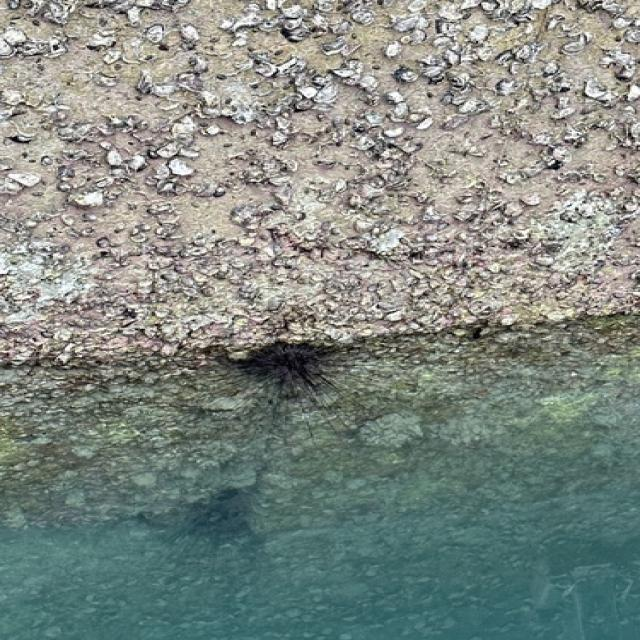Urchin: (159, 319, 394, 448)
